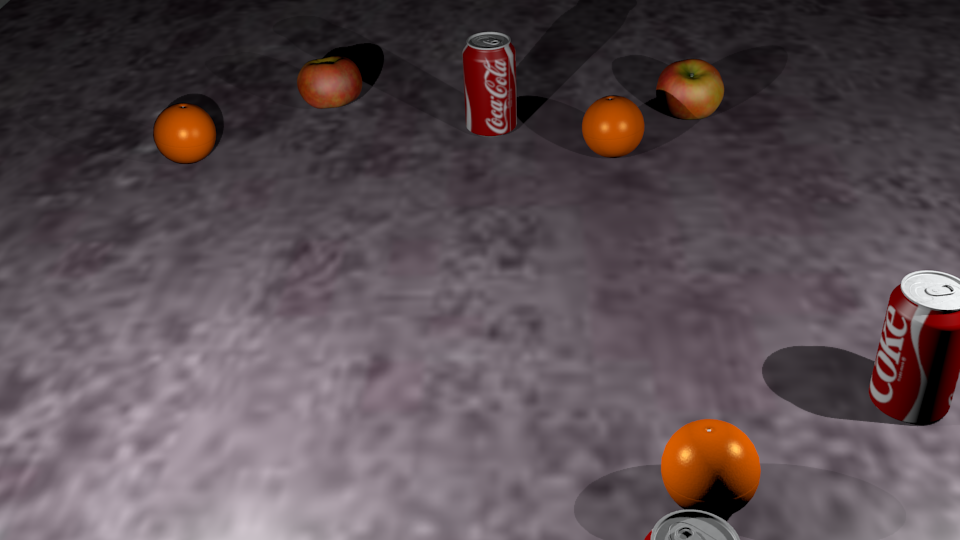apple: (541, 130, 637, 218), (275, 1, 391, 63), (657, 61, 724, 119), (298, 58, 362, 108)
banana: (532, 283, 678, 540), (109, 218, 360, 351), (1, 309, 154, 429), (59, 139, 192, 259), (579, 76, 719, 133)
cola_can: (869, 271, 960, 421), (463, 33, 517, 137), (645, 510, 741, 540)
orange: (662, 419, 761, 504), (583, 97, 645, 156), (155, 105, 216, 163), (637, 104, 698, 161), (818, 86, 873, 139)
